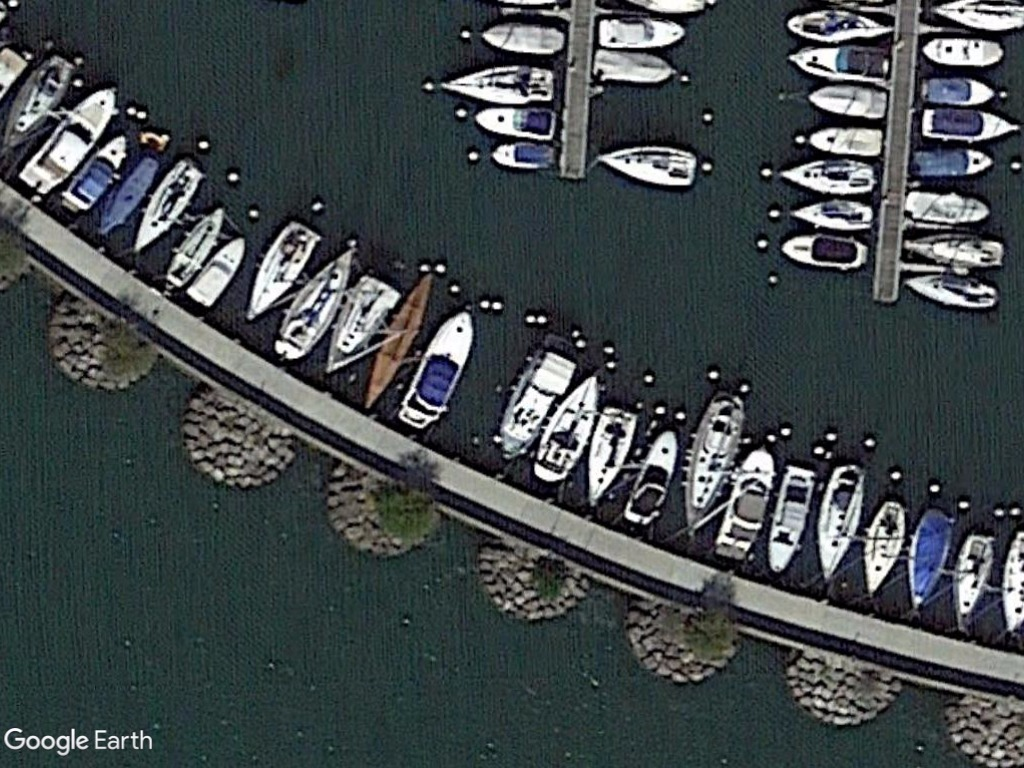boat: (16, 82, 120, 203), (359, 270, 442, 416), (679, 389, 751, 541), (495, 336, 582, 459), (397, 305, 479, 432), (269, 242, 356, 361), (0, 48, 82, 168), (236, 217, 327, 325), (530, 369, 610, 487), (128, 151, 210, 256), (321, 269, 399, 376), (711, 444, 779, 560), (808, 459, 869, 583), (578, 405, 643, 510), (159, 201, 231, 294), (762, 462, 820, 577), (60, 130, 130, 220), (92, 149, 160, 240), (621, 425, 681, 523), (436, 60, 559, 106), (775, 40, 896, 86), (905, 505, 954, 613), (594, 143, 698, 193), (862, 493, 911, 598), (188, 233, 251, 312), (900, 229, 1010, 274), (949, 530, 996, 635), (783, 6, 896, 46), (778, 157, 880, 199), (901, 276, 1005, 316), (916, 105, 1024, 143), (903, 186, 996, 228), (780, 233, 872, 275), (596, 11, 690, 52), (474, 18, 569, 58), (592, 47, 684, 87), (803, 80, 889, 120), (910, 144, 1000, 182), (471, 105, 561, 141), (920, 35, 1009, 71), (915, 75, 999, 111), (788, 198, 876, 231), (805, 124, 884, 159), (487, 141, 564, 174)
